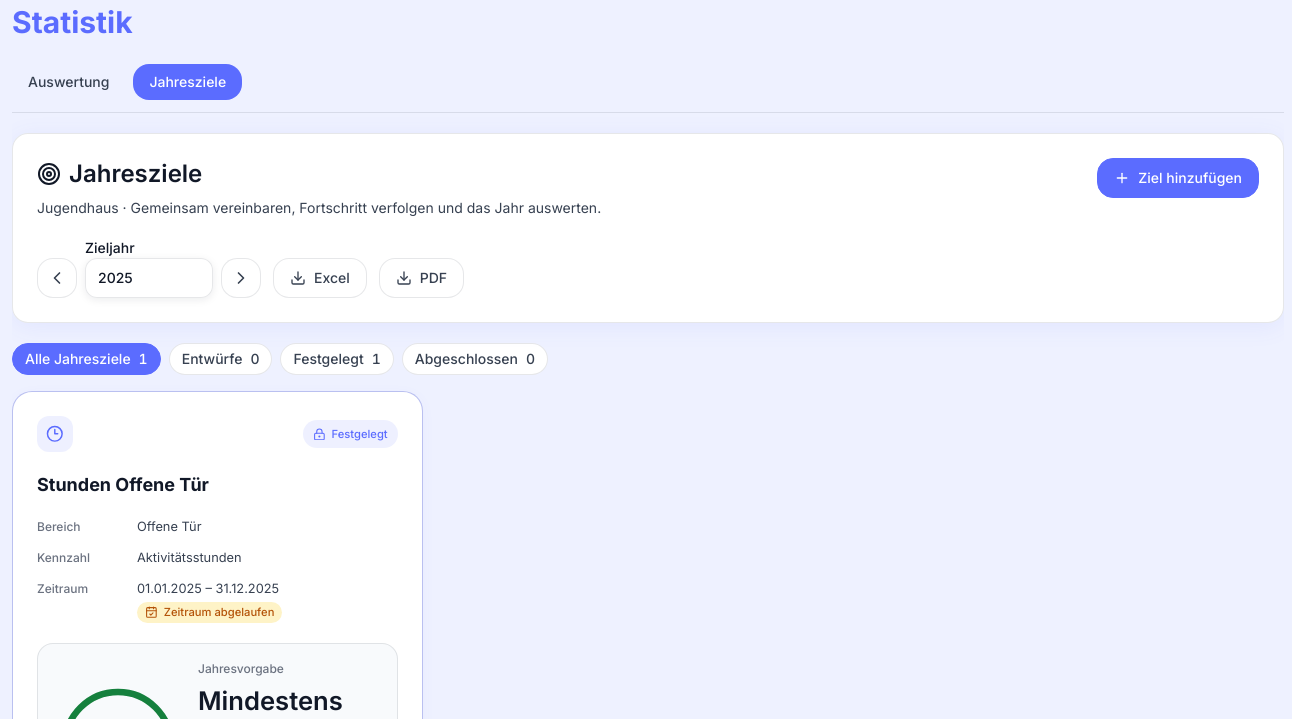
Test: Annual target UI permissions and flows › navigates years through accessible arrow buttons on either side of the year picker
Step 1. Click the button named "Folgejahr" → (241, 278), box x1=221 y1=258 x2=261 y2=298
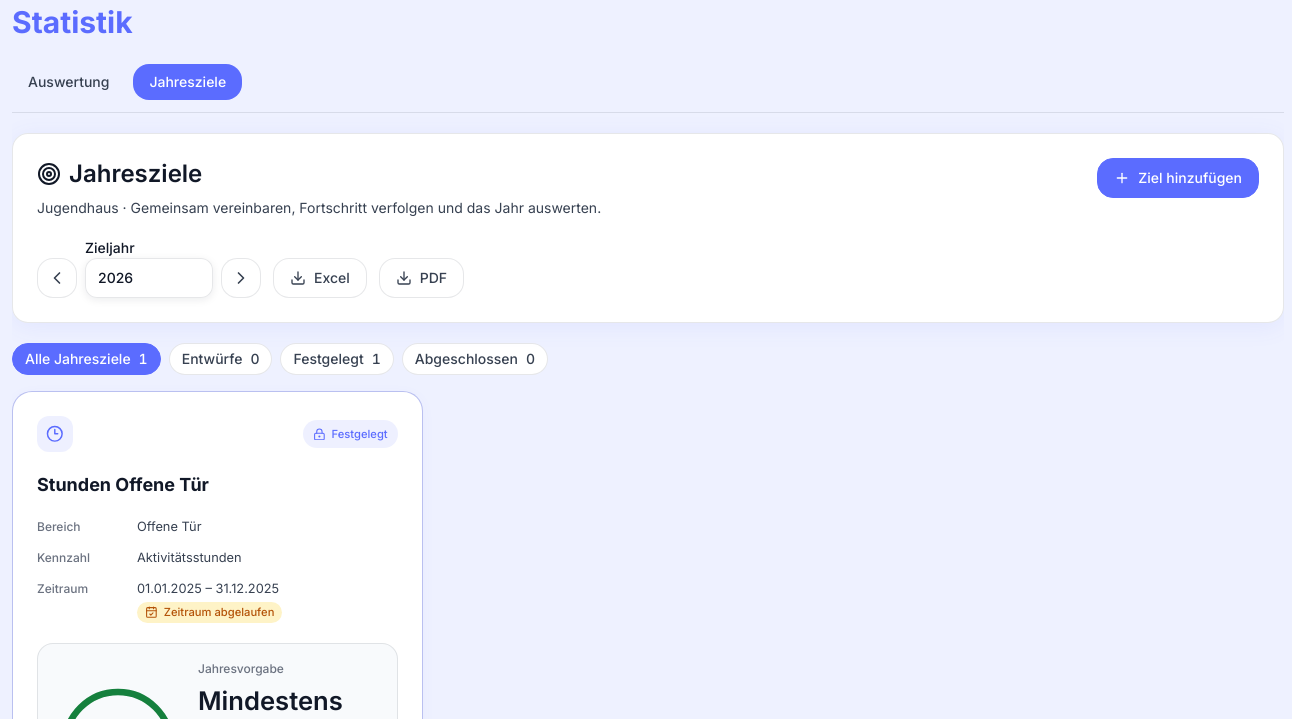
Expected: the number field labelled "Zieljahr" holds "2026", x1=85 y1=258 x2=213 y2=298
Step 2. Click the button named "Vorjahr" → (57, 278), box x1=37 y1=258 x2=77 y2=298
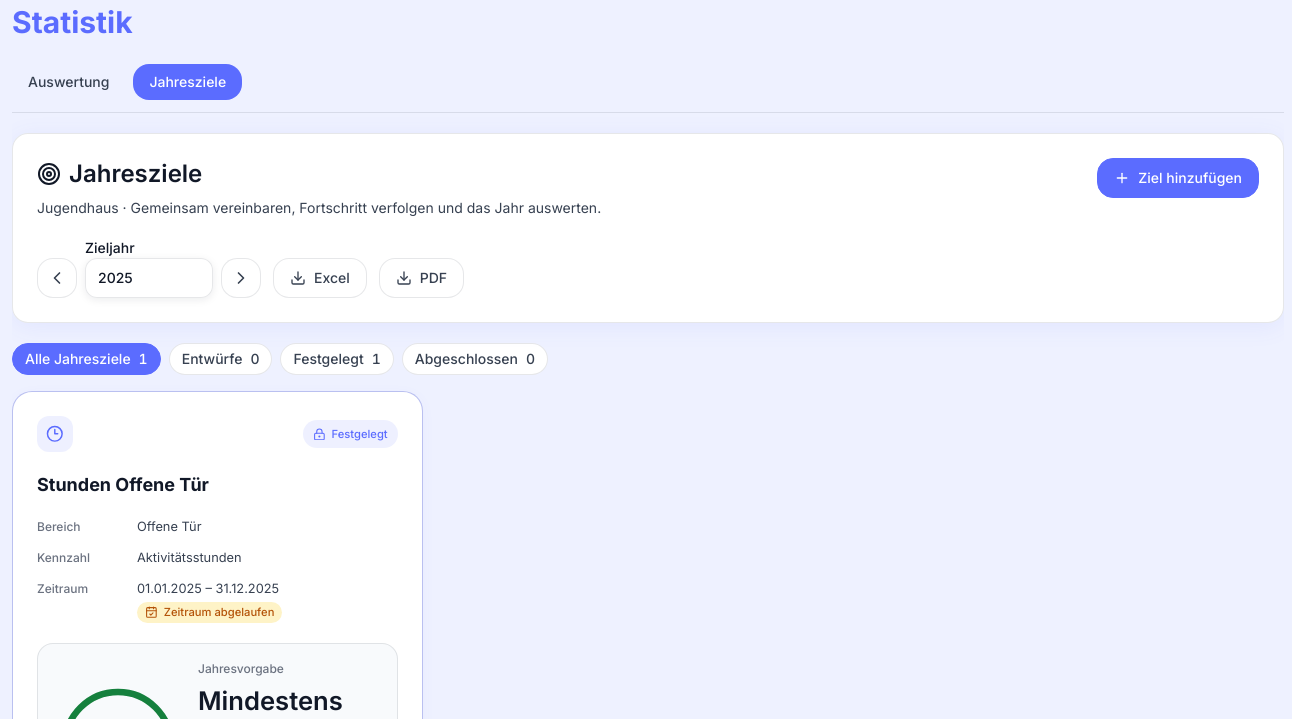
Expected: the number field labelled "Zieljahr" holds "2025", x1=85 y1=258 x2=213 y2=298
